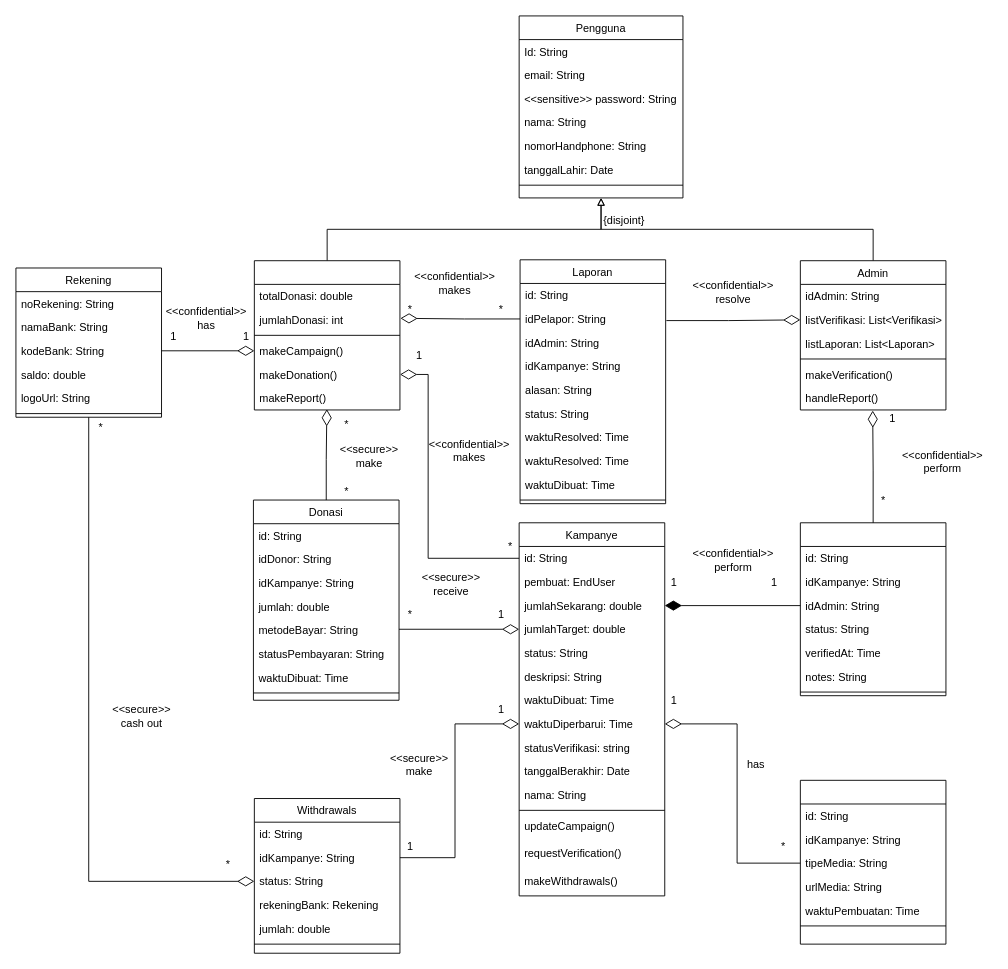
The diagram is 1008 pixels wide and 969 high, and some of its shapes have lost their labels. Each missing label, with the box of its shape:
EndUser: (253, 260, 400, 410)
MediaKampanye: (799, 779, 946, 944)
Verifikasi: (799, 522, 946, 696)
